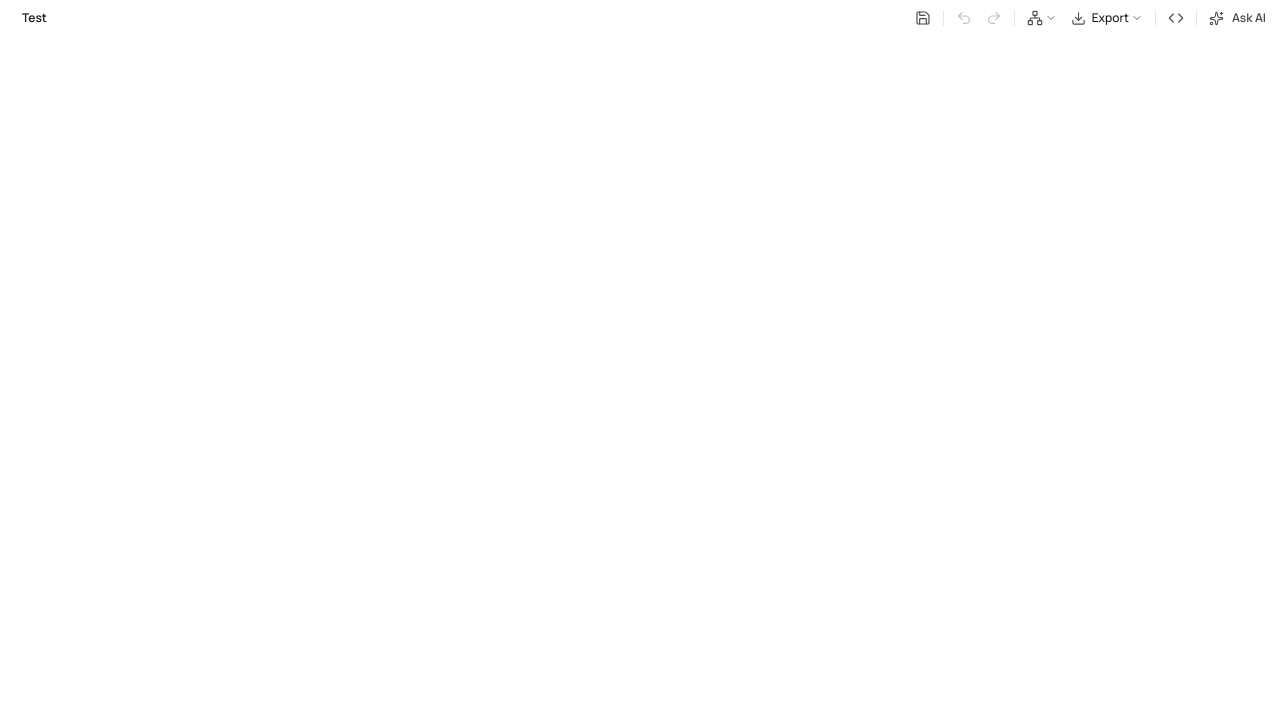
Scenario: Arrange menu (formerly Layout) — auto layout (#3, #219 T16) › choosing a direction closes it and focus goes to Arrange (#219)
Click the 4th button named "Arrange" at (1042, 18), box [1021,4,1063,32]
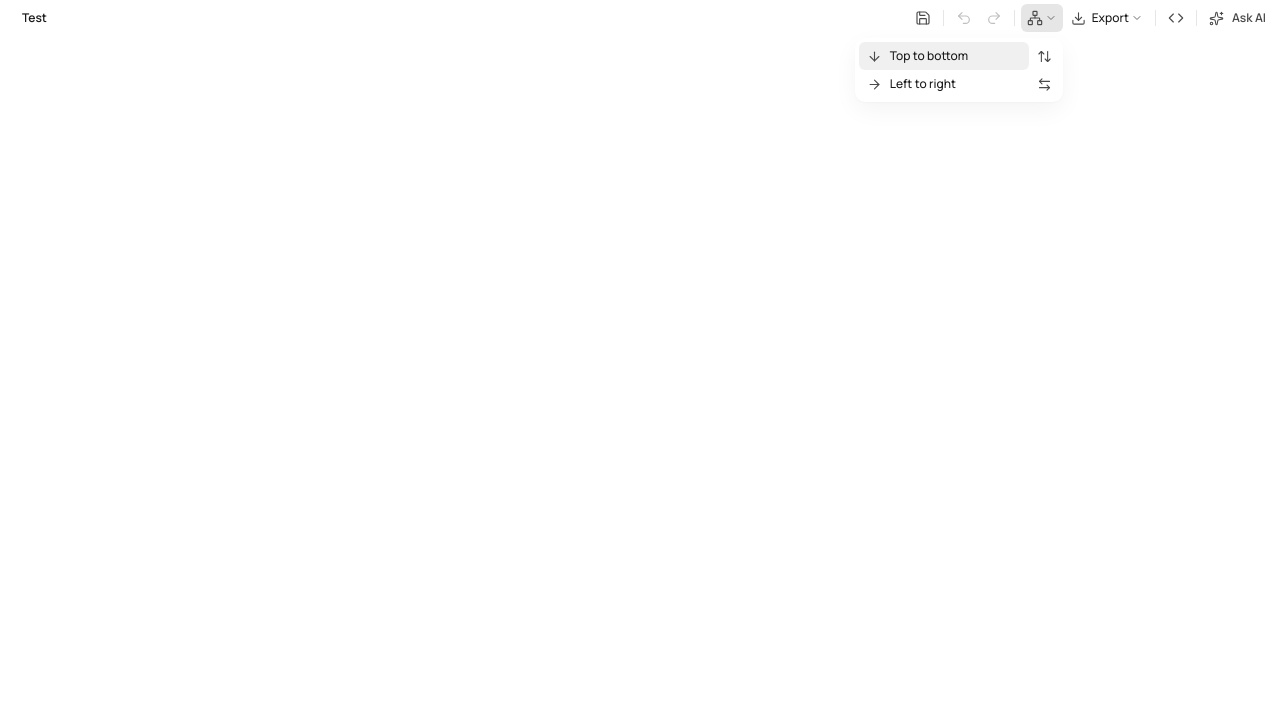
Click the menu item "Left to right" at (944, 84), box [859,70,1029,98]
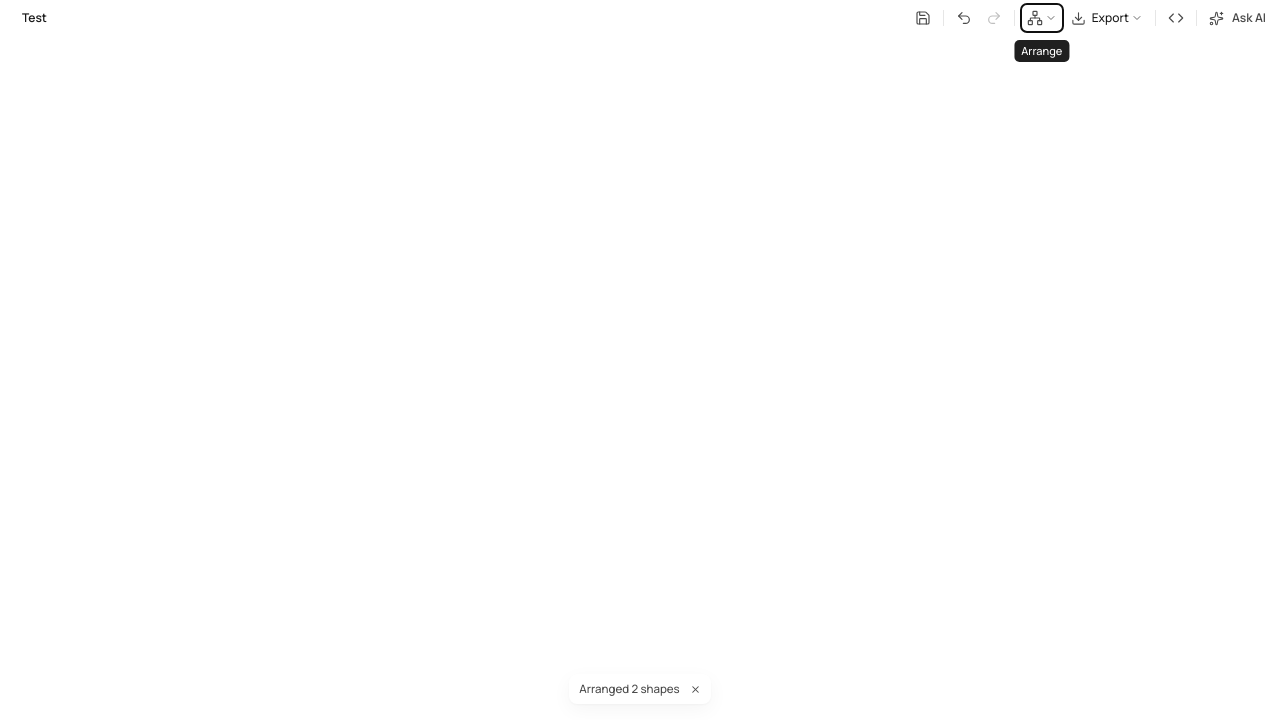
Result: the menu is gone
